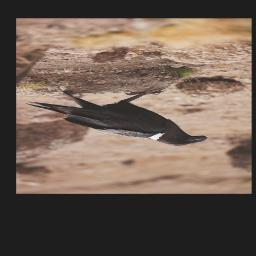Crow: (26, 84, 210, 148)
